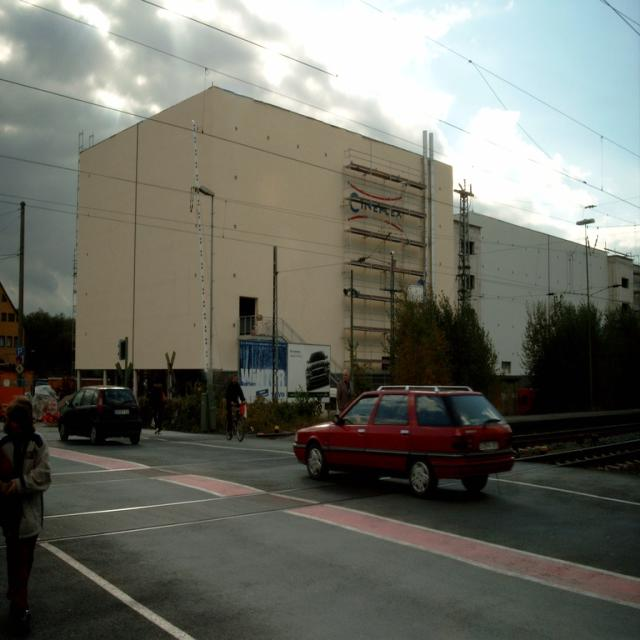car: (285, 376, 510, 507), (57, 385, 141, 447)
